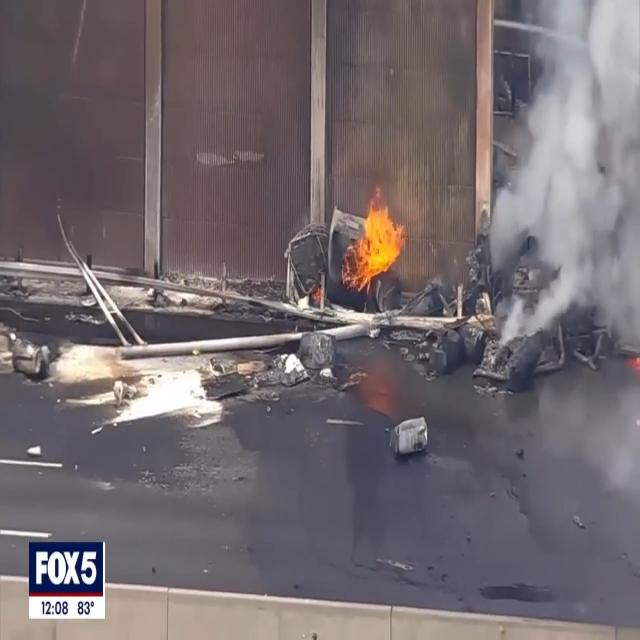fire: (346, 200, 400, 292)
